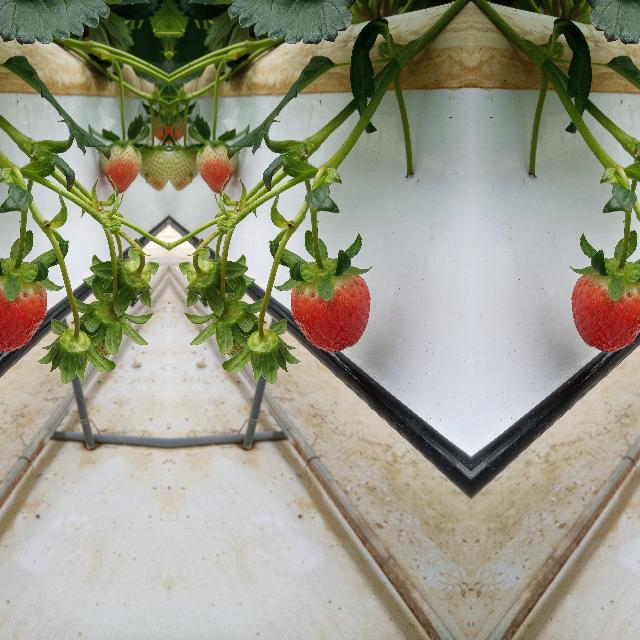Health_100: (290, 274, 370, 352), (570, 273, 640, 352), (0, 273, 46, 352)
Health_50: (168, 142, 194, 198), (142, 142, 168, 198)
Health_75: (196, 135, 234, 199), (102, 135, 140, 199)
